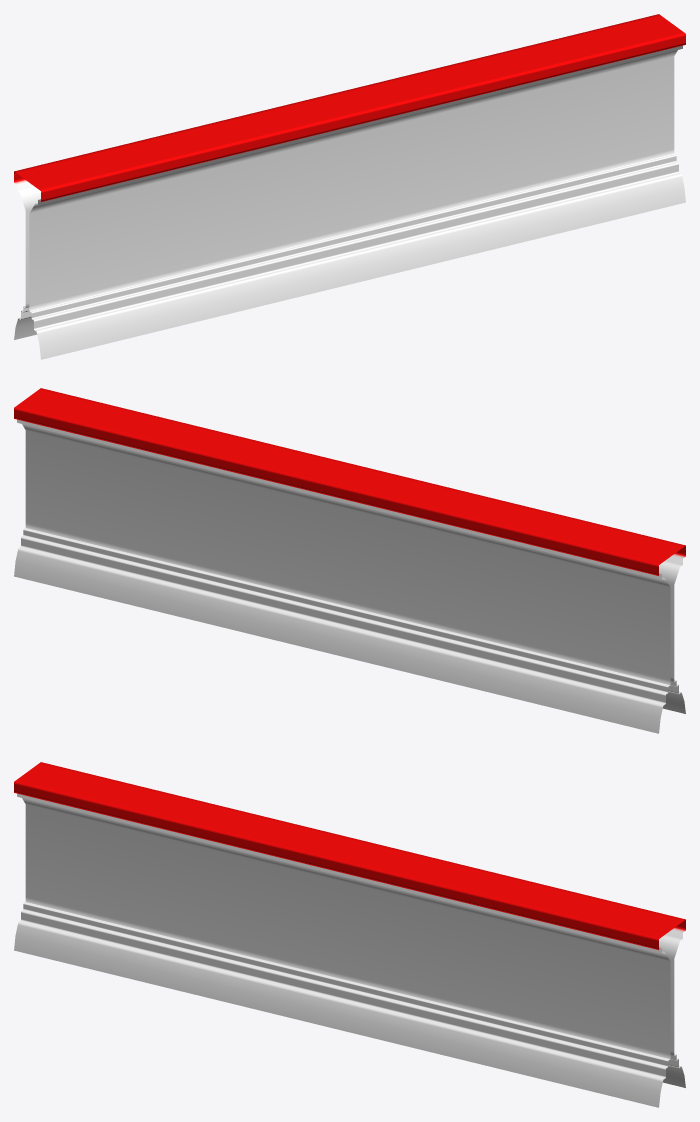
File: SM_RailB4m.fbx
The picture shows the model from 3 angles, top to bottom: view 1: azimuth 30°, elevation 25°; view 2: azimuth 150°, elevation 25°; view 3: azimuth 330°, elevation 25°; orthographic projection.
Parts seen in each view (by area): view 1: SM_RailB4m; view 2: SM_RailB4m; view 3: SM_RailB4m.
Boxes of the visible parts, x1,y1,x2,y2 form: SM_RailB4m: [14, 14, 685, 359]; SM_RailB4m: [14, 388, 685, 733]; SM_RailB4m: [14, 762, 685, 1107].
Bounding box in the file's own units: 400 × 100 × 28.95.
